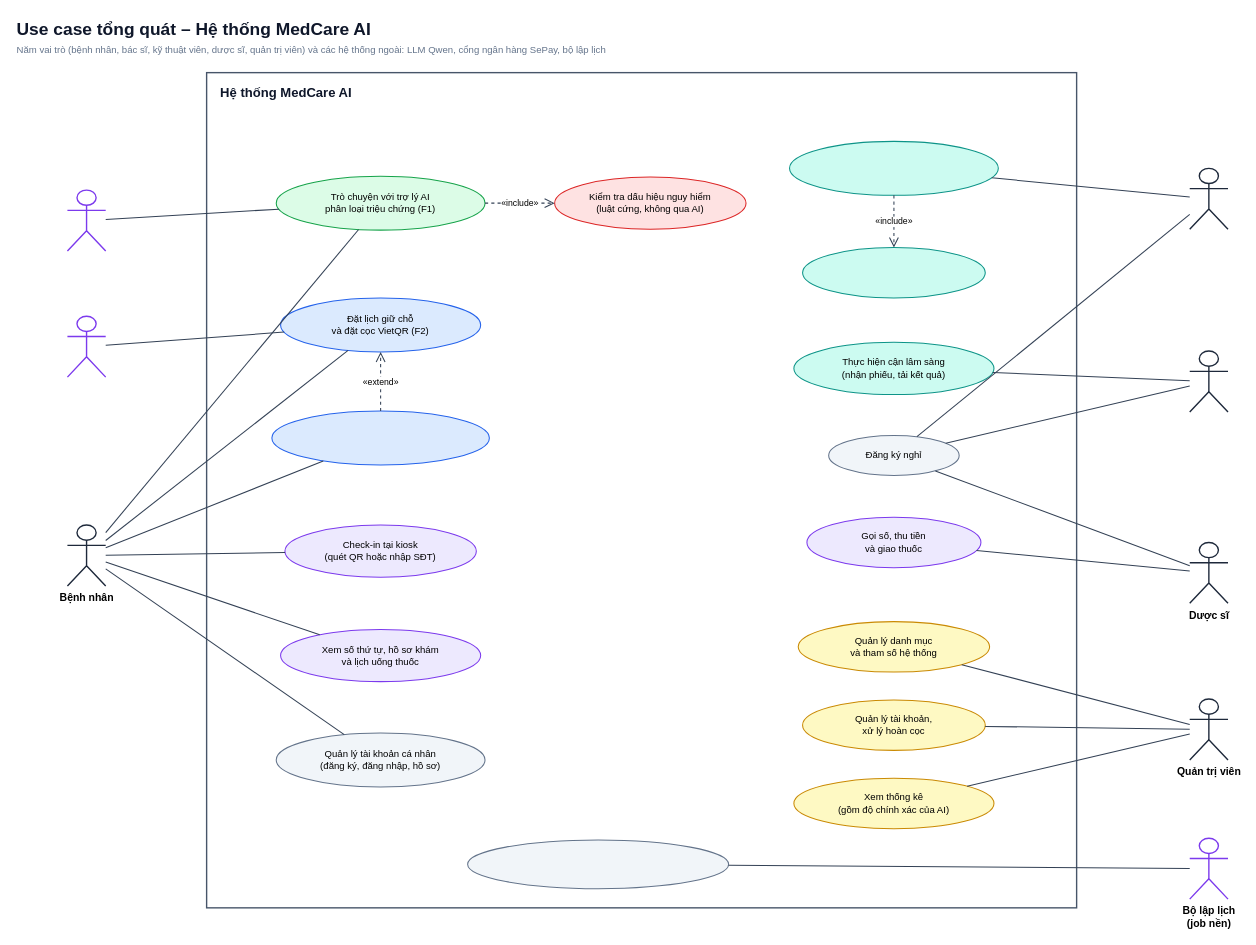
This 1256x945 diagram has some shape labels left out. Each missing label, with the box of its shape:
Bác sĩ: (1189, 167, 1228, 230)
Cổng ngân hàng SePay (VietQR): (66, 315, 106, 377)
Khám bệnh và chốt ca (F3): bệnh án, chỉ định CLS: (789, 140, 998, 195)
Kê đơn có kiểm tra tự động (F4): (802, 247, 985, 298)
Kỹ thuật viên: (1189, 350, 1228, 412)
LLM Qwen (OpenAI client): (66, 189, 106, 251)
Tác vụ nền: hết hạn giữ chỗ, NO_SHOW, nhắc tái khám qua email: (467, 839, 729, 889)
Xử lý lịch khi bác sĩ nghỉ (đổi bác sĩ, đổi giờ, hoàn cọc): (271, 410, 489, 465)
